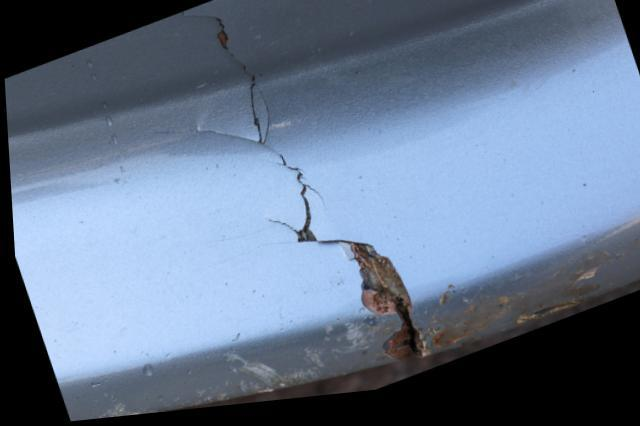crack: (154, 14, 421, 369)
scratch: (73, 327, 374, 421), (419, 248, 628, 361)
